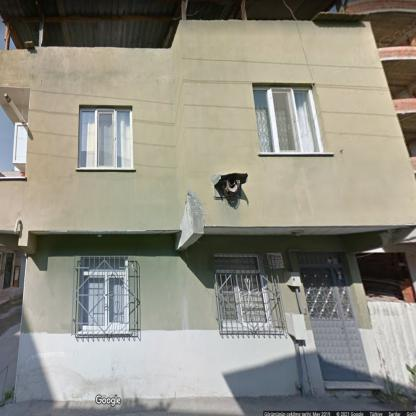door: (298, 251, 370, 380), (4, 254, 13, 288)
window: (254, 88, 321, 154), (218, 258, 272, 328), (79, 258, 127, 332), (80, 108, 132, 168)
